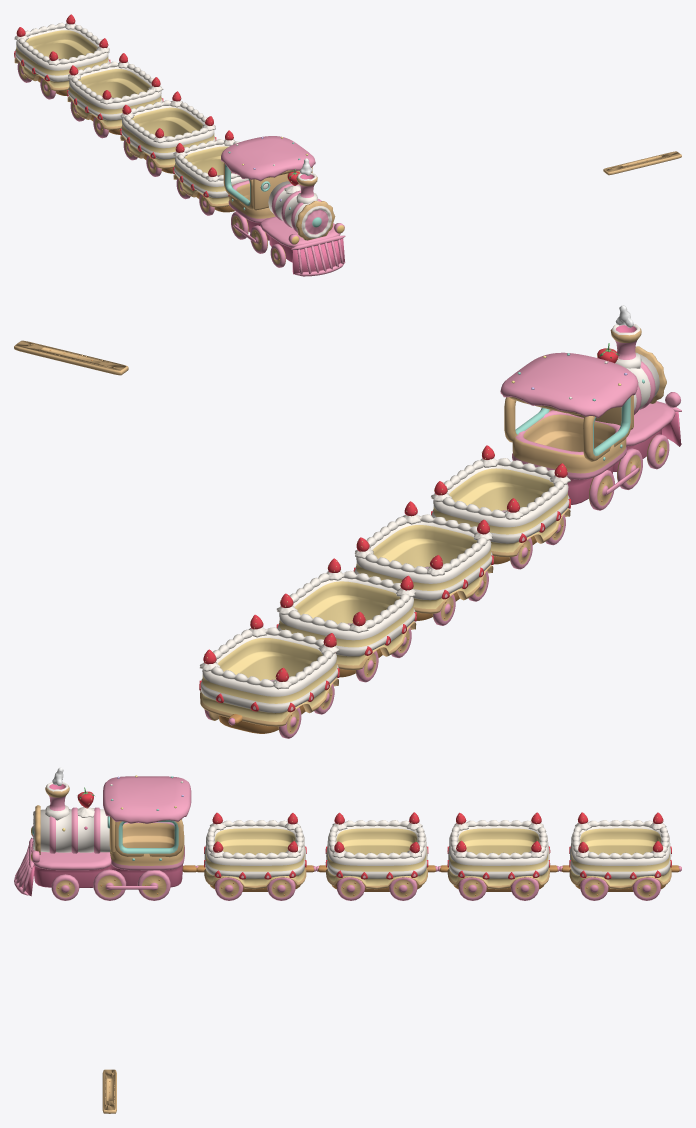
The model's file is CakeTrain.fbx.
3 renders of one model, top to bottom at view 1: azimuth 30°, elevation 25°; view 2: azimuth 150°, elevation 25°; view 3: azimuth 270°, elevation 25°, orthographic. The views are drawn at different scales.
Parts seen in each view (by area): view 1: TR_Loco_Body, TR_Car_2_Body, TR_Car_4_Body, TR_Car_3_Body, TR_Car_1_Body, TR_Sleeper; view 2: TR_Loco_Body, TR_Car_4_Body, TR_Car_2_Body, TR_Car_3_Body, TR_Car_1_Body, TR_Sleeper, TR_Wheel_Loco_6, TR_Wheel_Loco_4; view 3: TR_Loco_Body, TR_Car_4_Body, TR_Car_2_Body, TR_Car_3_Body, TR_Car_1_Body, TR_Wheel_Loco_3, TR_Wheel_Loco_5, TR_Sleeper, TR_Wheel_Loco_1, TR_Wheel_Car2_3, TR_Wheel_Car1_1, TR_Wheel_Car4_3 (+5 smaller).
Part boxes in pixels (x1=…): TR_Loco_Body: x1=221, y1=136, x2=345, y2=276; TR_Car_2_Body: x1=120, y1=91, x2=216, y2=173; TR_Car_4_Body: x1=14, y1=14, x2=110, y2=95; TR_Car_3_Body: x1=67, y1=53, x2=163, y2=134; TR_Car_1_Body: x1=173, y1=130, x2=248, y2=212; TR_Sleeper: x1=603, y1=151, x2=681, y2=175; TR_Loco_Body: x1=500, y1=324, x2=681, y2=504; TR_Car_4_Body: x1=199, y1=614, x2=339, y2=733; TR_Car_2_Body: x1=353, y1=501, x2=493, y2=620; TR_Car_3_Body: x1=276, y1=558, x2=416, y2=677; TR_Car_1_Body: x1=430, y1=445, x2=570, y2=564; TR_Sleeper: x1=14, y1=340, x2=128, y2=375; TR_Wheel_Loco_6: x1=589, y1=470, x2=614, y2=510; TR_Wheel_Loco_4: x1=617, y1=448, x2=642, y2=489; TR_Loco_Body: x1=14, y1=775, x2=198, y2=896; TR_Car_4_Body: x1=559, y1=812, x2=681, y2=891; TR_Car_2_Body: x1=316, y1=812, x2=437, y2=891; TR_Car_3_Body: x1=438, y1=812, x2=559, y2=891; TR_Car_1_Body: x1=195, y1=812, x2=316, y2=891; TR_Wheel_Loco_3: x1=93, y1=869, x2=126, y2=900; TR_Wheel_Loco_5: x1=137, y1=870, x2=170, y2=900; TR_Sleeper: x1=102, y1=1069, x2=116, y2=1113; TR_Wheel_Loco_1: x1=51, y1=874, x2=79, y2=900; TR_Wheel_Car2_3: x1=389, y1=877, x2=417, y2=900; TR_Wheel_Car1_1: x1=215, y1=877, x2=243, y2=900; TR_Wheel_Car4_3: x1=632, y1=877, x2=660, y2=900.
Bounding box in the file's own units: 3.61 × 0.8741 × 4.21.
